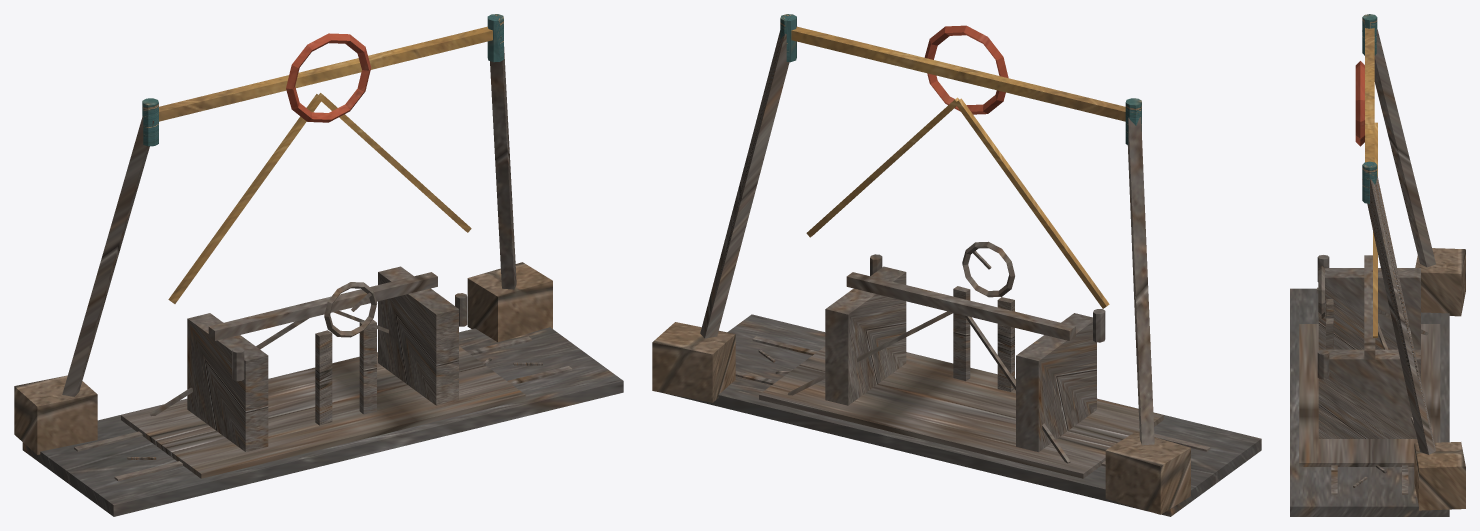
Rendered from north-anchor-gate.glb.
3 renders of one model, left to right at view 1: azimuth 30°, elevation 25°; view 2: azimuth 150°, elevation 25°; view 3: azimuth 270°, elevation 25°, orthographic. The views are drawn at different scales.
Parts seen in each view (by area): view 1: north-anchor-gate; view 2: north-anchor-gate; view 3: north-anchor-gate.
Boxes of the visible parts, box(x1,y1,x2,y2) form: north-anchor-gate: box(14, 14, 623, 516); north-anchor-gate: box(652, 14, 1261, 516); north-anchor-gate: box(1290, 14, 1465, 516).
Size of the model in its own units: 11.13 by 8.08 by 3.75.
1 material, 1 textured.
